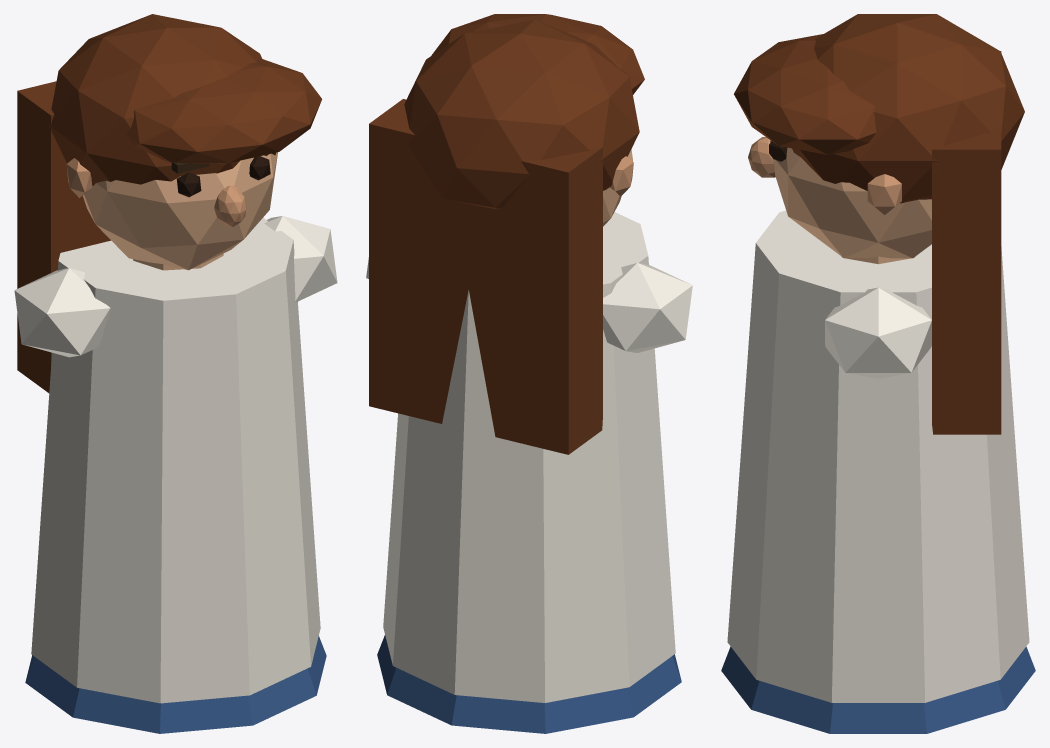
Rendered from insan_k1s_govde.glb.
The picture shows the model from 3 angles, left to right: view 1: azimuth 30°, elevation 25°; view 2: azimuth 150°, elevation 25°; view 3: azimuth 270°, elevation 25°; orthographic projection. The views are drawn at different scales.
Parts seen in each view (by area): view 1: Cone; view 2: Cone; view 3: Cone.
Boxes of the visible parts, box(x1,y1,x2,y2) form: Cone: box(14, 14, 337, 733); Cone: box(366, 14, 692, 733); Cone: box(721, 14, 1035, 733).
Size of the model in its own units: 0.1158 by 0.2272 by 0.1.
